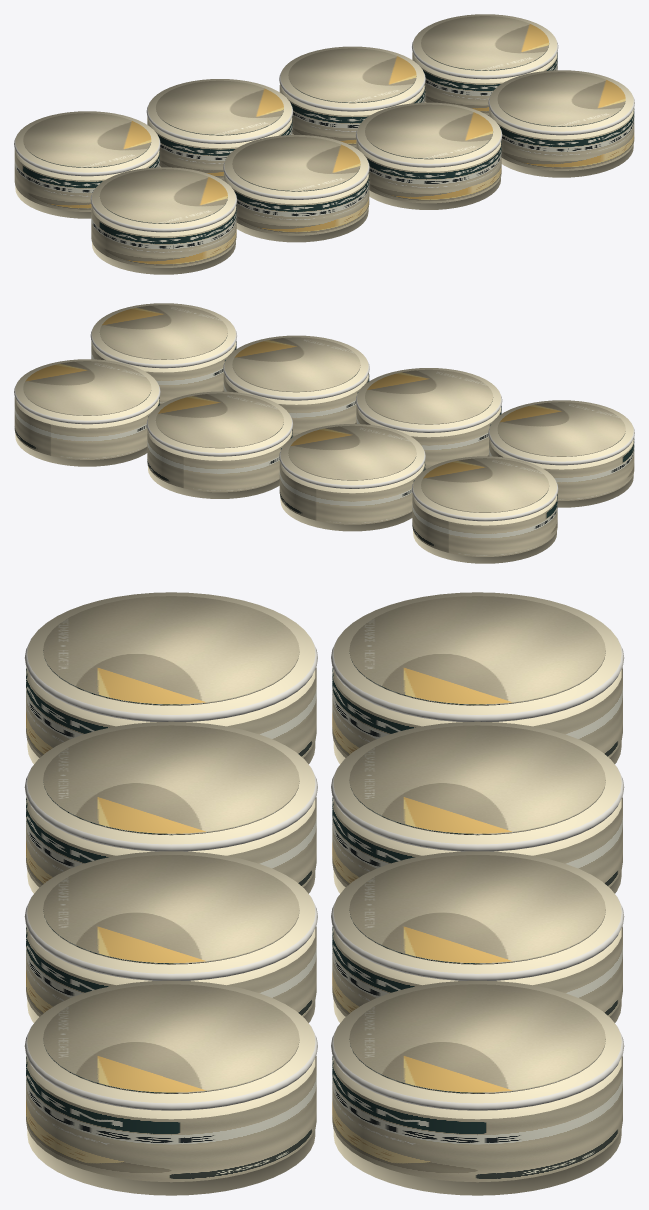
Rendered from alp_farm_brie_de_suisse.glb.
3 views of the same model, one above another, from view 1: azimuth 30°, elevation 25°; view 2: azimuth 150°, elevation 25°; view 3: azimuth 270°, elevation 25° (orthographic). The views are drawn at different scales.
Visible parts, largest first — view 1: Printed circular wheel top | STOCK_UNIT_007, Printed circular wheel top | STOCK_UNIT_002, Printed circular wheel top | STOCK_UNIT_003, Printed circular wheel top | STOCK_UNIT_005, Printed circular wheel top | STOCK_UNIT_004, Printed circular wheel top | STOCK_UNIT_006, Printed circular wheel top, Printed circular wheel top | STOCK_UNIT_008, Branded sideboard wrapping, Branded sideboard wrapping | STOCK_UNIT_002, Branded sideboard wrapping | STOCK_UNIT_004, Branded sideboard wrapping | STOCK_UNIT_003 (+20 smaller); view 2: Printed circular wheel top | STOCK_UNIT_003, Printed circular wheel top, Printed circular wheel top | STOCK_UNIT_006, Printed circular wheel top | STOCK_UNIT_007, Printed circular wheel top | STOCK_UNIT_008, Printed circular wheel top | STOCK_UNIT_002, Printed circular wheel top | STOCK_UNIT_005, Printed circular wheel top | STOCK_UNIT_004, Branded sideboard wrapping | STOCK_UNIT_005, Branded sideboard wrapping | STOCK_UNIT_006, Branded sideboard wrapping | STOCK_UNIT_008, Branded sideboard wrapping | STOCK_UNIT_007 (+20 smaller); view 3: Printed circular wheel top | STOCK_UNIT_003, Printed circular wheel top | STOCK_UNIT_004, Printed circular wheel top | STOCK_UNIT_007, Printed circular wheel top | STOCK_UNIT_008, Printed circular wheel top | STOCK_UNIT_002, Printed circular wheel top | STOCK_UNIT_006, Printed circular wheel top, Printed circular wheel top | STOCK_UNIT_005, Branded sideboard wrapping | STOCK_UNIT_004, Branded sideboard wrapping | STOCK_UNIT_008, Soft ripened round cheese wheel | STOCK_UNIT_004, Soft ripened round cheese wheel | STOCK_UNIT_008 (+20 smaller).
Part boxes in pixels (x1,y1,x2,y2): Printed circular wheel top | STOCK_UNIT_007: (288,48,416,103); Printed circular wheel top | STOCK_UNIT_002: (232,136,360,191); Printed circular wheel top | STOCK_UNIT_003: (365,104,493,159); Printed circular wheel top | STOCK_UNIT_005: (23,113,151,167); Printed circular wheel top | STOCK_UNIT_004: (497,72,625,126); Printed circular wheel top | STOCK_UNIT_006: (155,80,283,135); Printed circular wheel top: (99,169,227,223); Printed circular wheel top | STOCK_UNIT_008: (421,16,549,70); Branded sideboard wrapping: (91,205,236,267); Branded sideboard wrapping | STOCK_UNIT_002: (223,173,369,235); Branded sideboard wrapping | STOCK_UNIT_004: (489,108,634,170); Branded sideboard wrapping | STOCK_UNIT_003: (356,140,501,203); Printed circular wheel top | STOCK_UNIT_003: (232,337,360,392); Printed circular wheel top: (497,402,625,456); Printed circular wheel top | STOCK_UNIT_006: (288,425,416,480); Printed circular wheel top | STOCK_UNIT_007: (155,393,283,448); Printed circular wheel top | STOCK_UNIT_008: (23,361,151,415); Printed circular wheel top | STOCK_UNIT_002: (365,369,493,424); Printed circular wheel top | STOCK_UNIT_005: (421,458,549,512); Printed circular wheel top | STOCK_UNIT_004: (99,305,227,359); Branded sideboard wrapping | STOCK_UNIT_005: (412,494,557,556); Branded sideboard wrapping | STOCK_UNIT_006: (279,462,425,524); Branded sideboard wrapping | STOCK_UNIT_008: (14,397,159,459); Branded sideboard wrapping | STOCK_UNIT_007: (147,429,292,492); Printed circular wheel top | STOCK_UNIT_003: (43,855,299,964); Printed circular wheel top | STOCK_UNIT_004: (43,984,299,1093); Printed circular wheel top | STOCK_UNIT_007: (349,855,605,964); Printed circular wheel top | STOCK_UNIT_008: (349,984,605,1093); Printed circular wheel top | STOCK_UNIT_002: (43,725,299,835); Printed circular wheel top | STOCK_UNIT_006: (349,725,605,835); Printed circular wheel top: (43,596,299,705); Printed circular wheel top | STOCK_UNIT_005: (349,596,605,705); Branded sideboard wrapping | STOCK_UNIT_004: (26,1055,316,1182); Branded sideboard wrapping | STOCK_UNIT_008: (332,1055,622,1182); Soft ripened round cheese wheel | STOCK_UNIT_004: (27,980,315,1195); Soft ripened round cheese wheel | STOCK_UNIT_008: (333,980,621,1195).
Bounding box in the file's own units: 0.471 × 0.0413 × 0.233.
3 materials, 1 textured.
